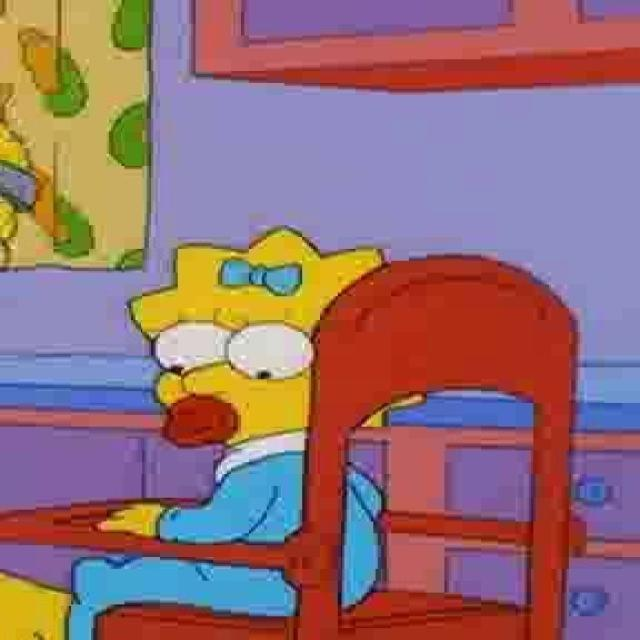Maggie Simpson: (126, 227, 424, 454)
